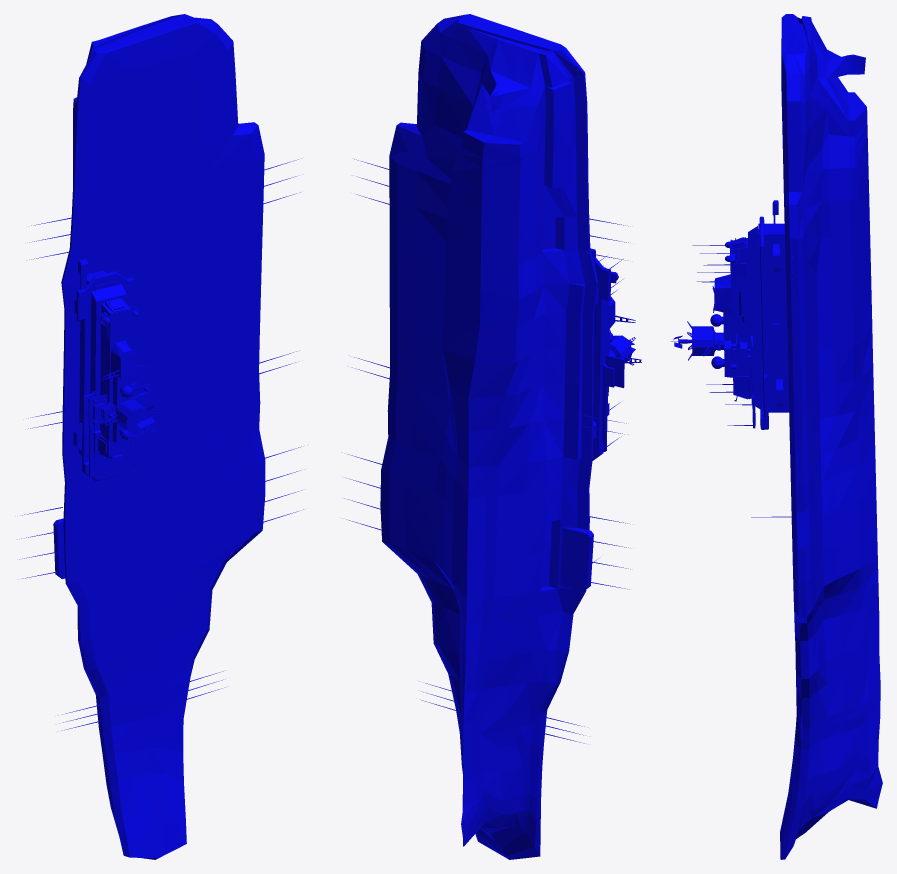
File: kuznetsov.obj
3 views of the same model, side by side, from view 1: azimuth 30°, elevation 25°; view 2: azimuth 150°, elevation 25°; view 3: azimuth 270°, elevation 25° (orthographic).
Visible parts, largest first — view 1: Mesh01, Mesh02; view 2: Mesh01, Mesh02; view 3: Mesh01, Mesh02.
Part boxes in pixels (x1=…): Mesh01: x1=61, y1=14, x2=265, y2=859; Mesh02: x1=19, y1=159, x2=303, y2=730; Mesh01: x1=380, y1=14, x2=598, y2=859; Mesh02: x1=344, y1=159, x2=641, y2=743; Mesh01: x1=780, y1=14, x2=882, y2=859; Mesh02: x1=687, y1=200, x2=802, y2=746.
Size of the model in its own units: 3.57 by 9.59 by 2.25.
